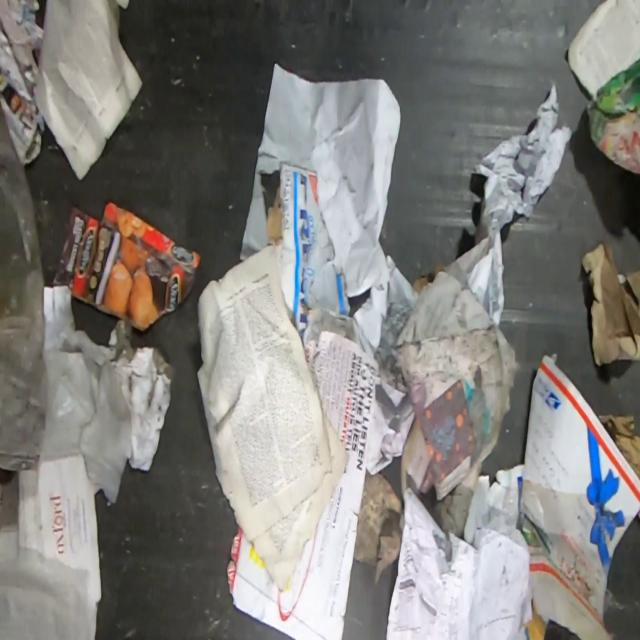cardboard: (518, 351, 640, 640), (50, 198, 202, 333), (260, 160, 352, 343), (590, 48, 640, 185), (597, 411, 640, 479)
soft_plastic: (0, 95, 55, 473)
